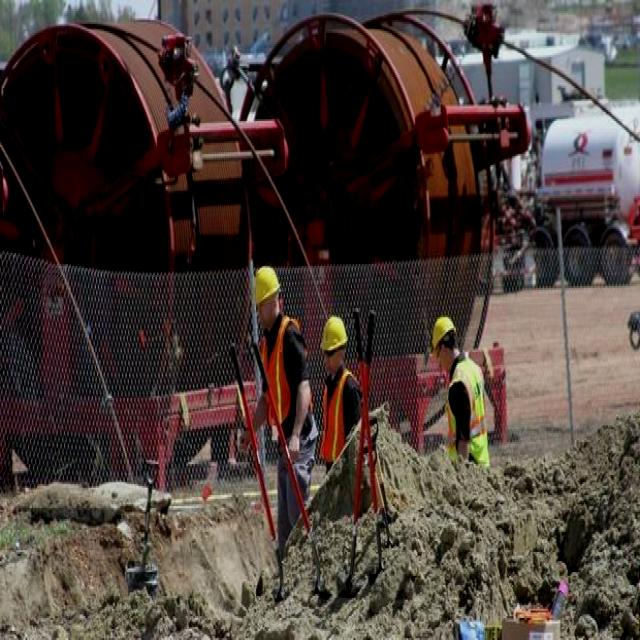helmet: (249, 260, 284, 316), (316, 310, 351, 365), (430, 308, 460, 365)
vest: (442, 356, 490, 468), (317, 365, 359, 464), (258, 323, 291, 431)
